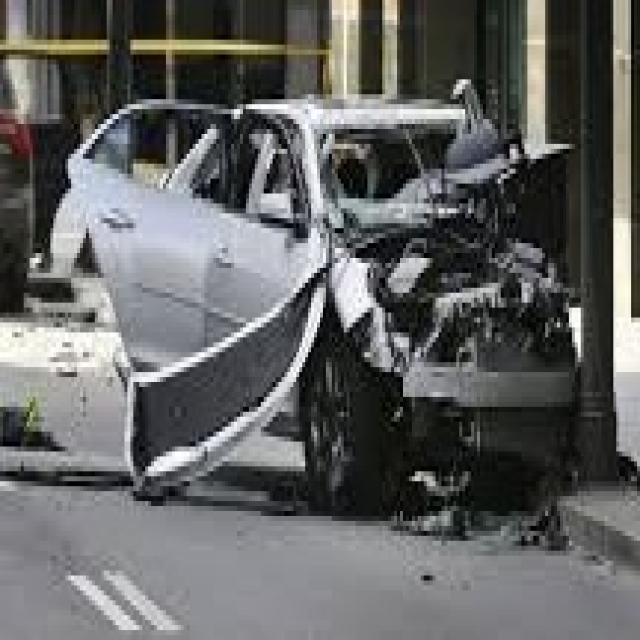moderate: (110, 98, 590, 475)
